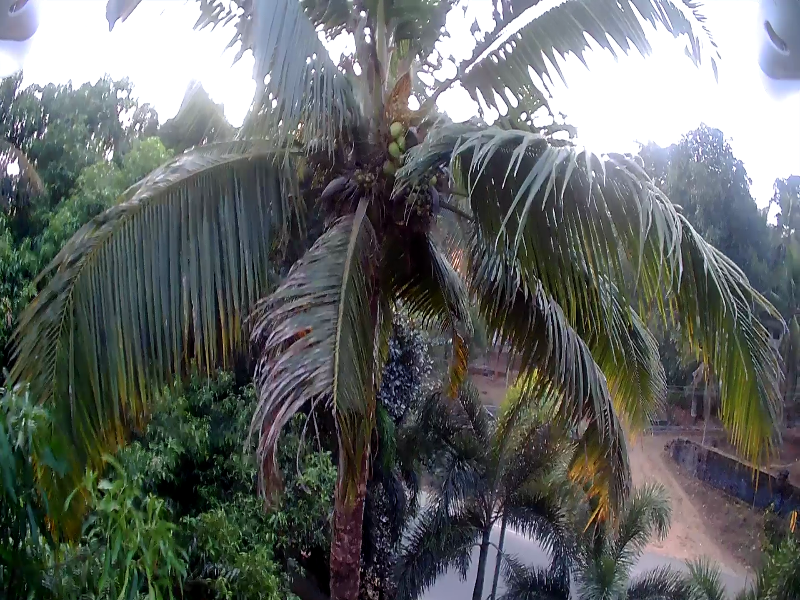coconut: (356, 173, 377, 184), (427, 174, 441, 189), (385, 139, 397, 156), (375, 158, 391, 169), (395, 139, 407, 151), (388, 125, 398, 139)
